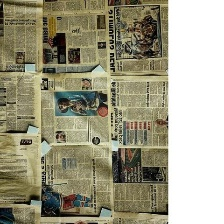news_paper: (108, 3, 183, 76), (40, 144, 112, 217), (40, 72, 111, 146), (110, 76, 177, 148), (42, 0, 107, 73), (110, 145, 169, 214), (0, 0, 43, 74), (0, 133, 41, 203), (0, 70, 42, 134), (0, 203, 40, 223), (112, 214, 172, 224), (40, 216, 113, 223), (108, 0, 170, 7)
